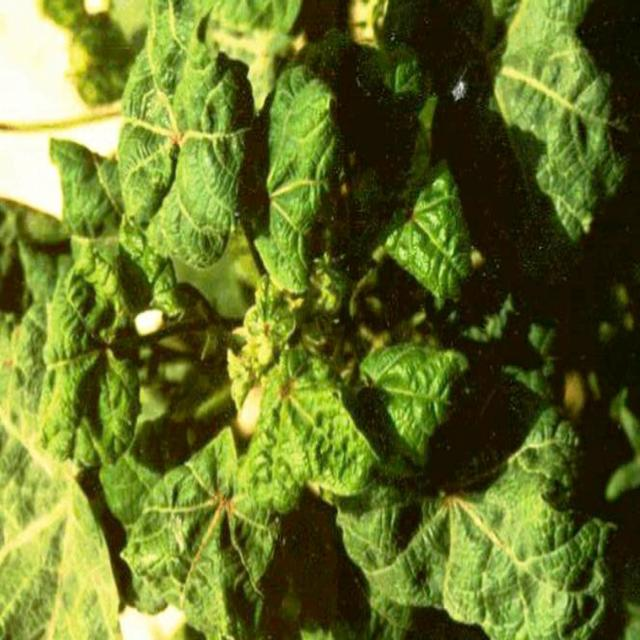Leaf Curl Virus: (88, 73, 450, 640)
